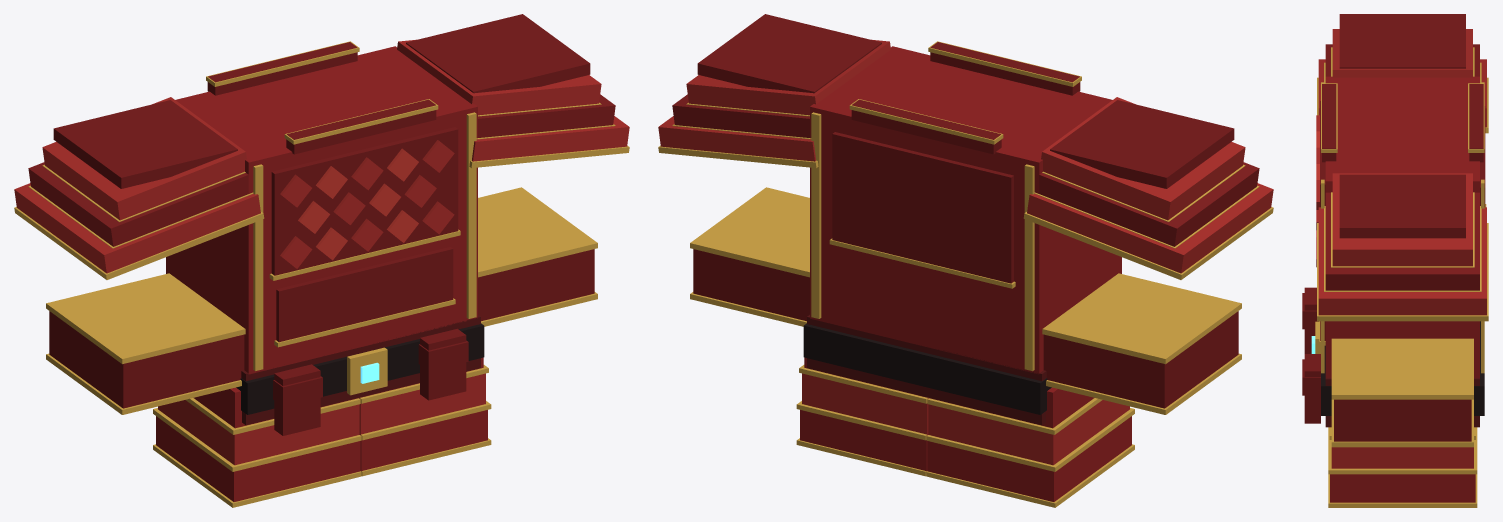
3 renders of one model, left to right at view 1: azimuth 30°, elevation 25°; view 2: azimuth 150°, elevation 25°; view 3: azimuth 270°, elevation 25°, orthographic. The views are drawn at different scales.
Parts seen in each view (by area): view 1: drakehide-coat; view 2: drakehide-coat; view 3: drakehide-coat.
Boxes of the visible parts, left/top/right/bottom form: drakehide-coat: left=14, top=14, right=629, bottom=507; drakehide-coat: left=658, top=14, right=1273, bottom=507; drakehide-coat: left=1302, top=14, right=1488, bottom=507.
Bounding box in the file's own units: 1.26 × 0.8166 × 0.4143.
